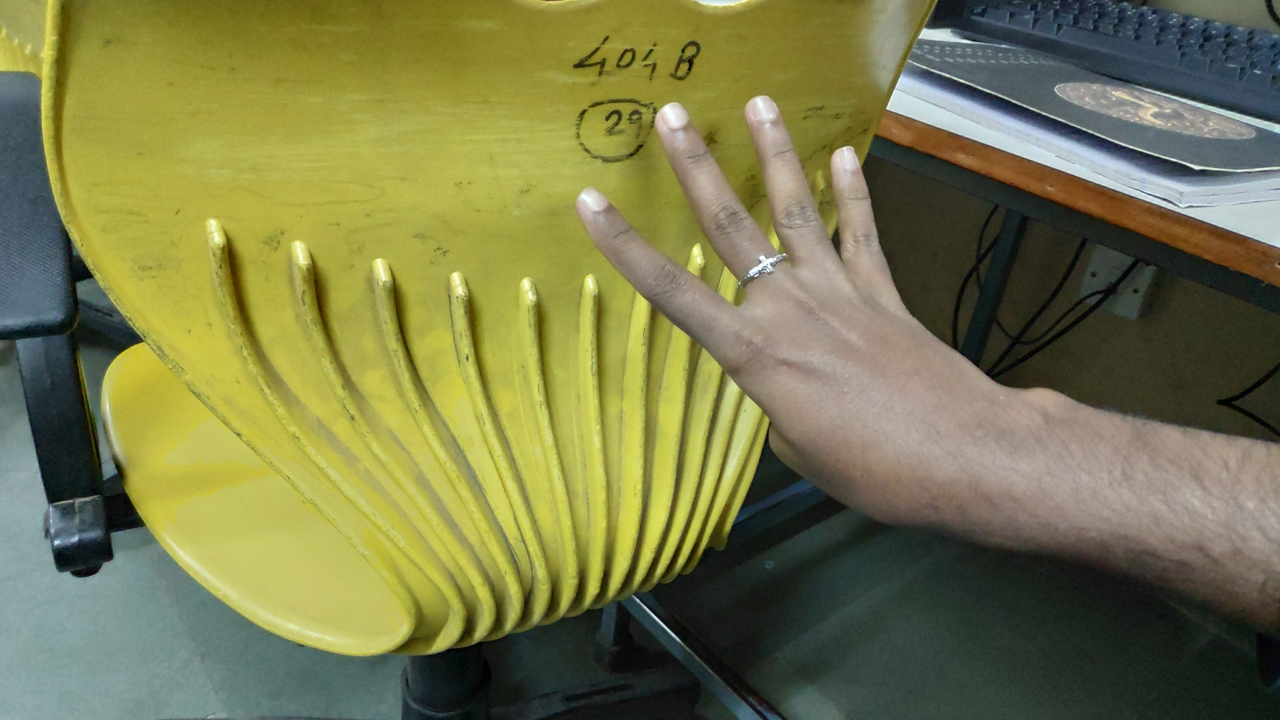fingertip: (566, 170, 624, 228), (652, 92, 704, 146), (734, 88, 792, 136), (822, 136, 876, 182)
